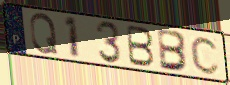1: (64, 15, 83, 61)
3: (95, 20, 123, 65)
B: (156, 27, 190, 73), (126, 23, 157, 69)
C: (190, 35, 222, 76)
Q: (28, 12, 60, 56)
